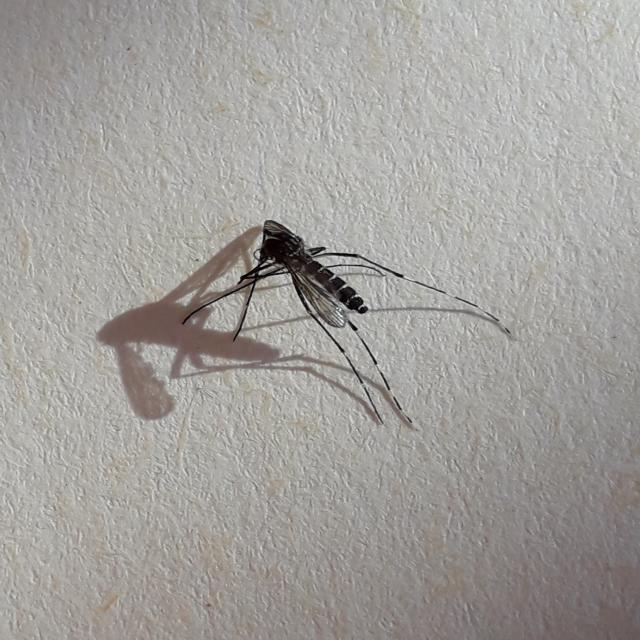albopictus: (115, 195, 505, 443)
